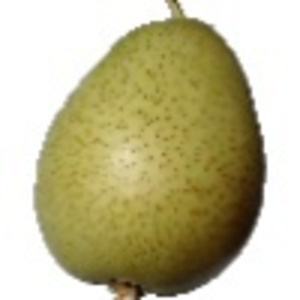pera: (33, 1, 268, 300)
